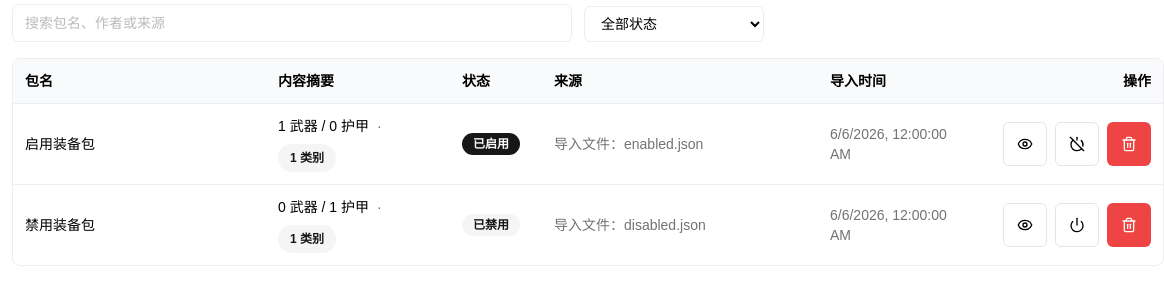
Test case: EquipmentPackTab › filters equipment packs by name, author, and status
Type "alice" into the field named "搜索装备包". click: (292,23)
box: [12, 4, 572, 42]
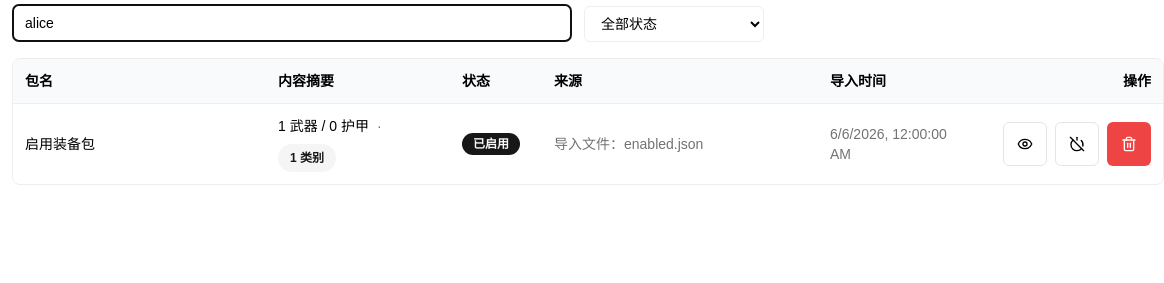
Now the text "禁用装备包" is gone
Clear the field named "搜索装备包". click: (292,23)
box: [12, 4, 572, 42]
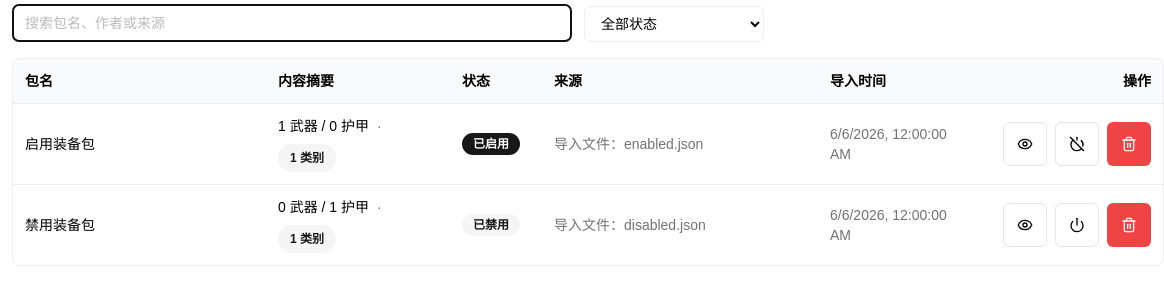
Select "已禁用" in the dropdown named "装备包状态筛选". click: (674,24)
box: [584, 6, 764, 42]
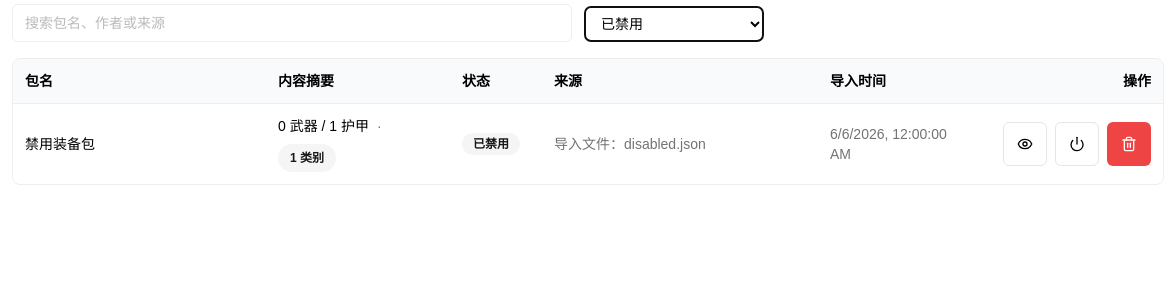
Now the text "启用装备包" is gone
